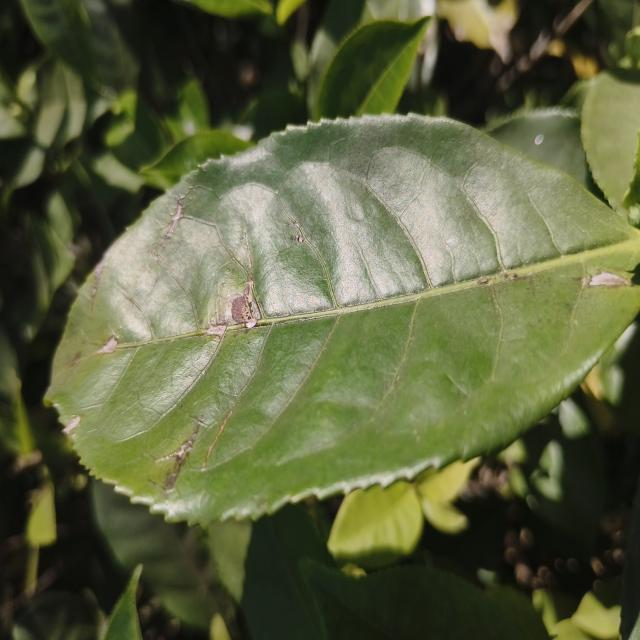Leaf: (47, 115, 640, 524), (90, 481, 233, 629), (302, 560, 525, 640), (209, 505, 334, 640), (313, 16, 431, 119), (328, 481, 423, 569), (581, 72, 640, 209), (141, 129, 253, 189)
